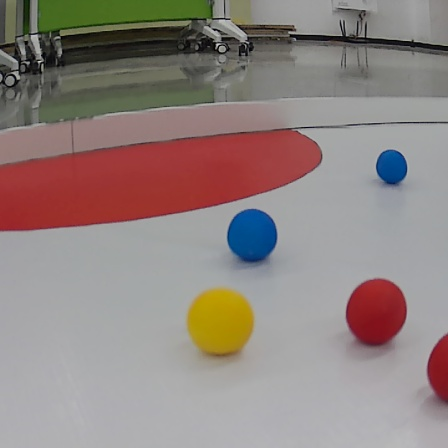blue: (222, 207, 283, 263), (373, 147, 409, 184)
red: (344, 276, 410, 347), (427, 329, 448, 402)
red_base: (0, 124, 323, 235)
yellow: (185, 286, 255, 356)
